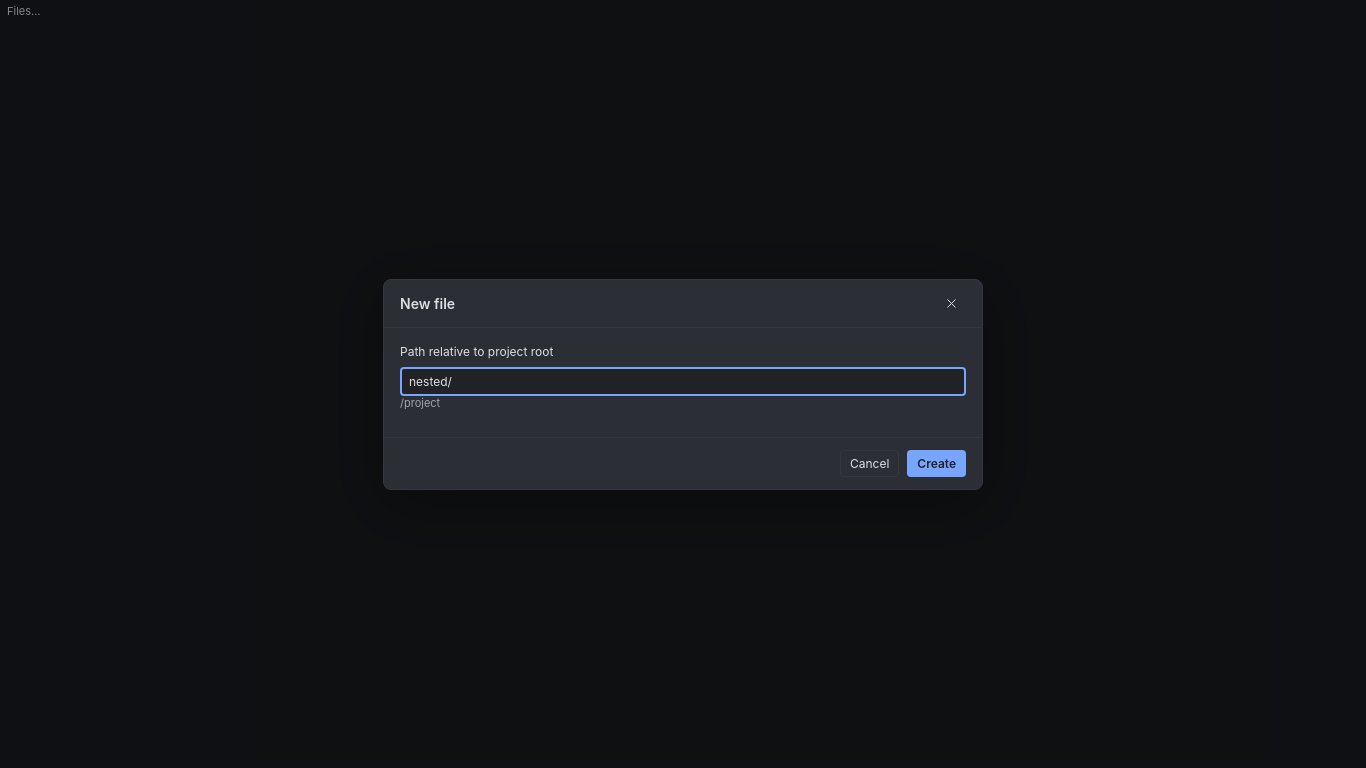
Test: creates new files inside the context folder and previews deletion of the context file
The width and height of the screenshot is (1366, 768).
Expected: the field named "Project relative path" holds "nested/", x1=400 y1=366 x2=966 y2=396
Click the button "Cancel" at {"x": 870, "y": 463}, box x1=840 y1=450 x2=899 y2=476
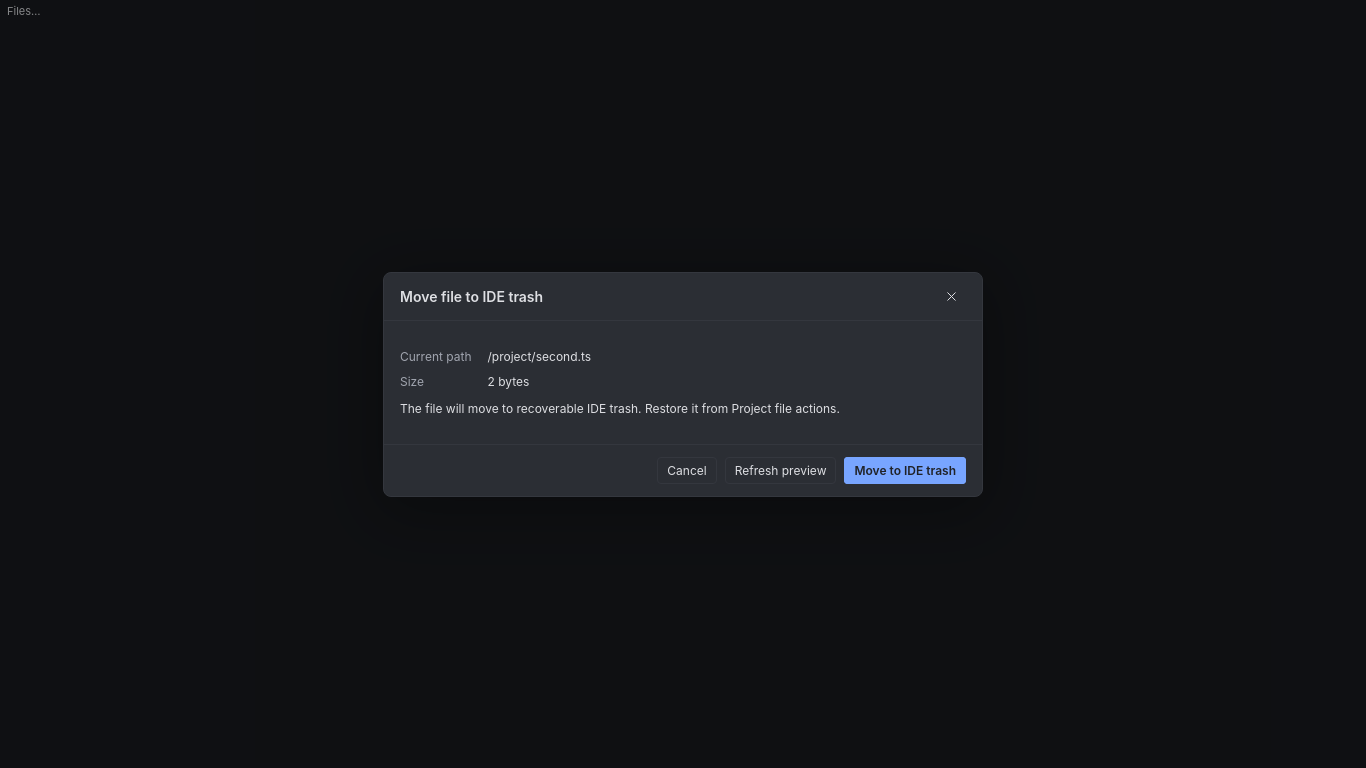
Result: the text "/project/second.ts" is shown at x1=488 y1=348 x2=591 y2=364
